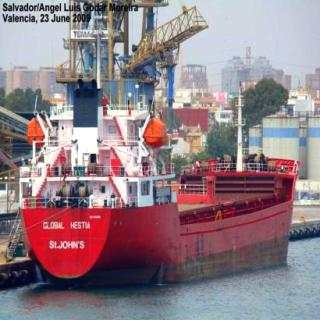Bulk Carrier: (3, 16, 298, 286)
